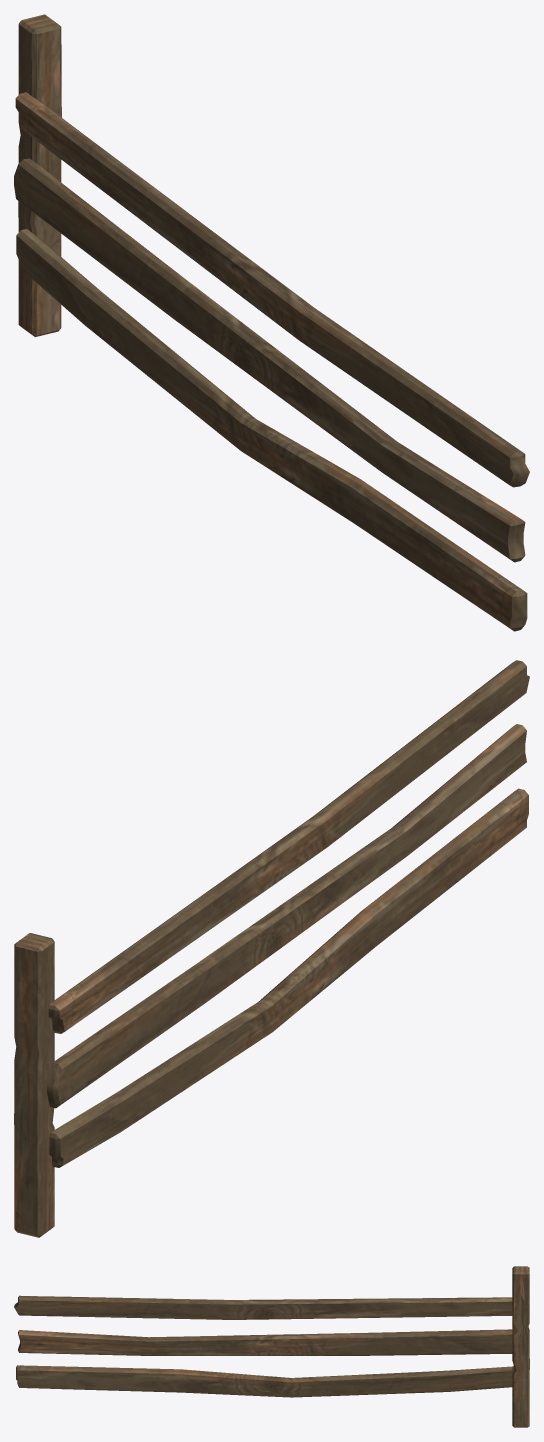
The model's file is SM_fence_01.fbx.
3 views of the same model, one above another, from view 1: azimuth 30°, elevation 25°; view 2: azimuth 150°, elevation 25°; view 3: azimuth 270°, elevation 25° (orthographic). The views are drawn at different scales.
Parts seen in each view (by area): view 1: SM_fence_01_LOD0; view 2: SM_fence_01_LOD0; view 3: SM_fence_01_LOD0.
Part boxes in pixels (left/top/right/bottom): SM_fence_01_LOD0: left=14, top=14, right=529, bottom=631; SM_fence_01_LOD0: left=14, top=660, right=529, bottom=1237; SM_fence_01_LOD0: left=14, top=1266, right=529, bottom=1427.
Size of the model in its own units: 18.73 by 410 by 136.
Materials: 1 (1 with a texture image).
